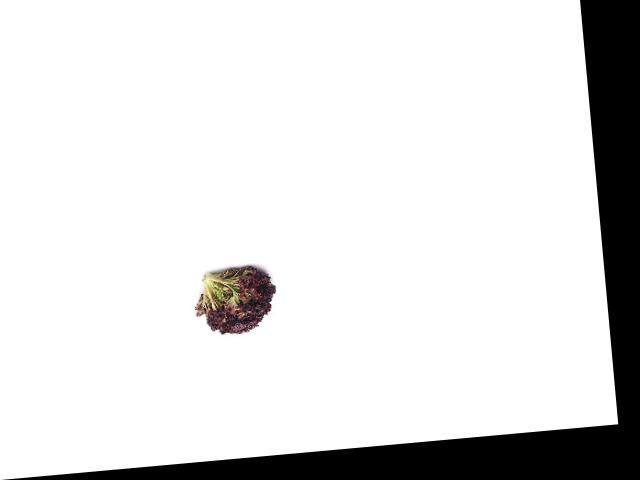lettuce: (195, 258, 283, 339)
